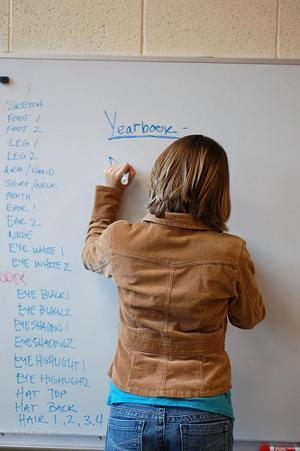person: (84, 135, 266, 449)
